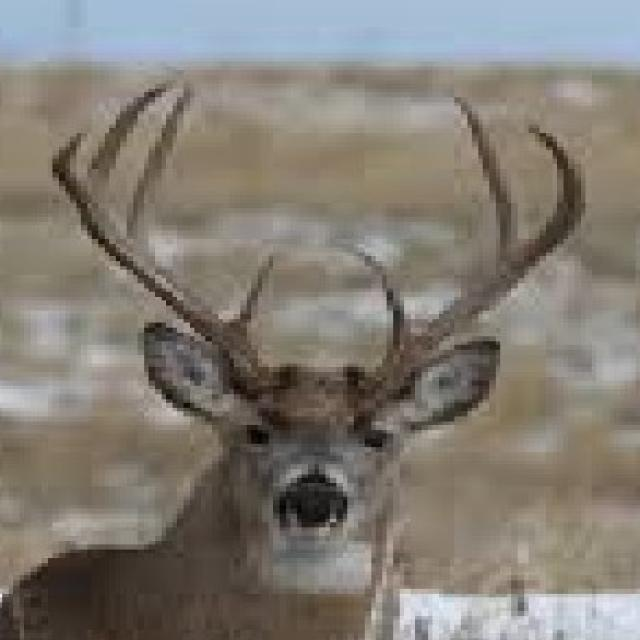L-F: (369, 123, 589, 395)
L-G1: (349, 245, 412, 355)
L-G2: (452, 95, 526, 269)
R-F: (49, 132, 276, 390)
R-G1: (228, 250, 275, 334)
R-G2: (125, 82, 199, 255)
R-G3: (85, 79, 176, 215)
